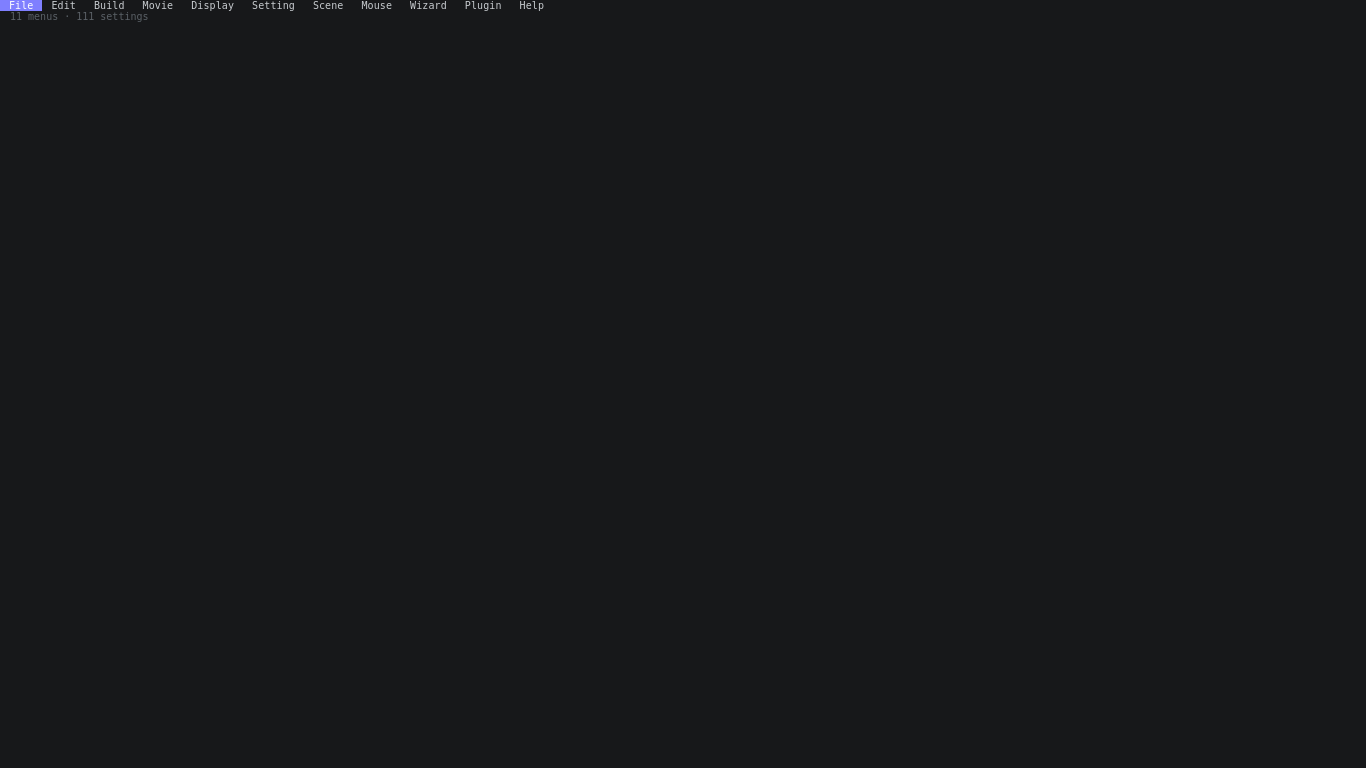
it: Setting > the three dialog entries (row 66) › Keyboard Shortcuts... opens the shortcut editor
Click the button with class "menubar__item" showing "Setting": point(273, 6) [243,0,304,11]
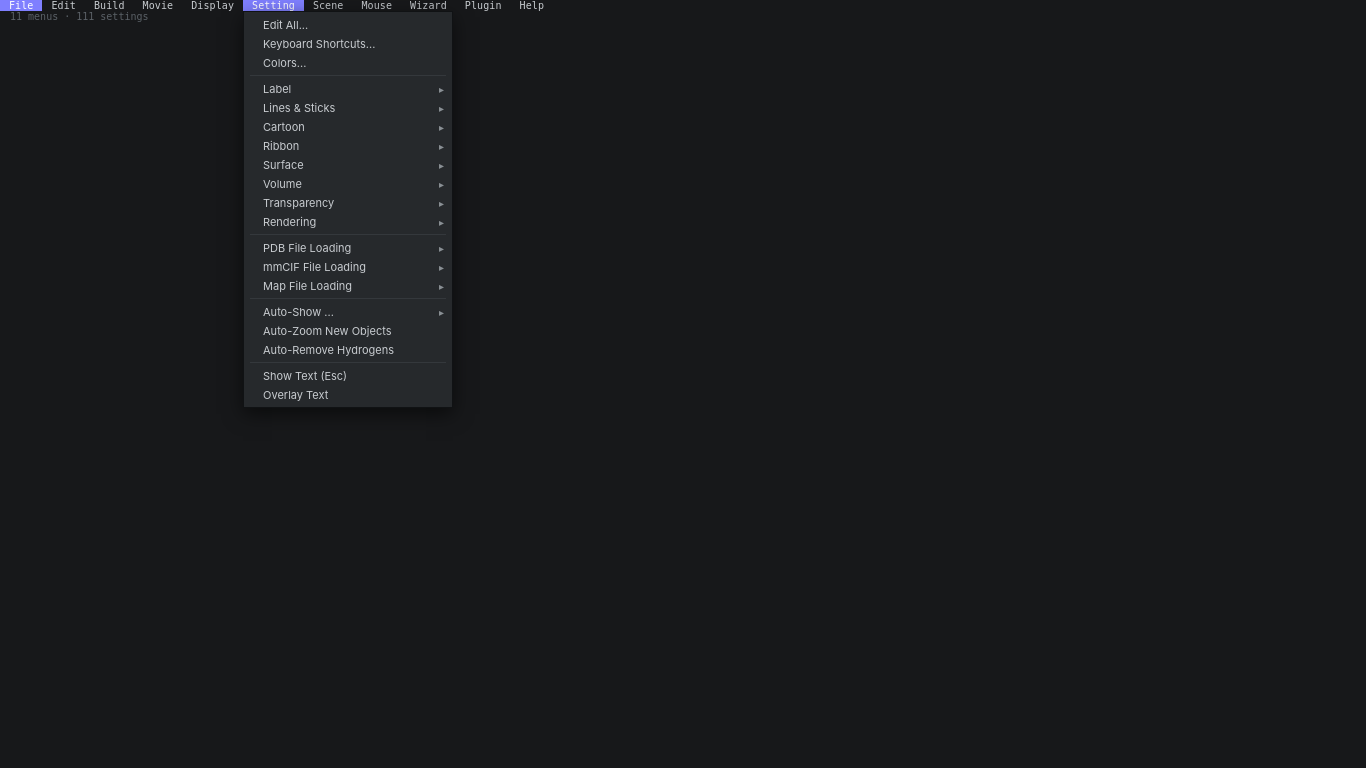
Click the menu item with class "menu__row" showing "Keyboard Shortcuts...": point(348, 44) [244,34,452,53]
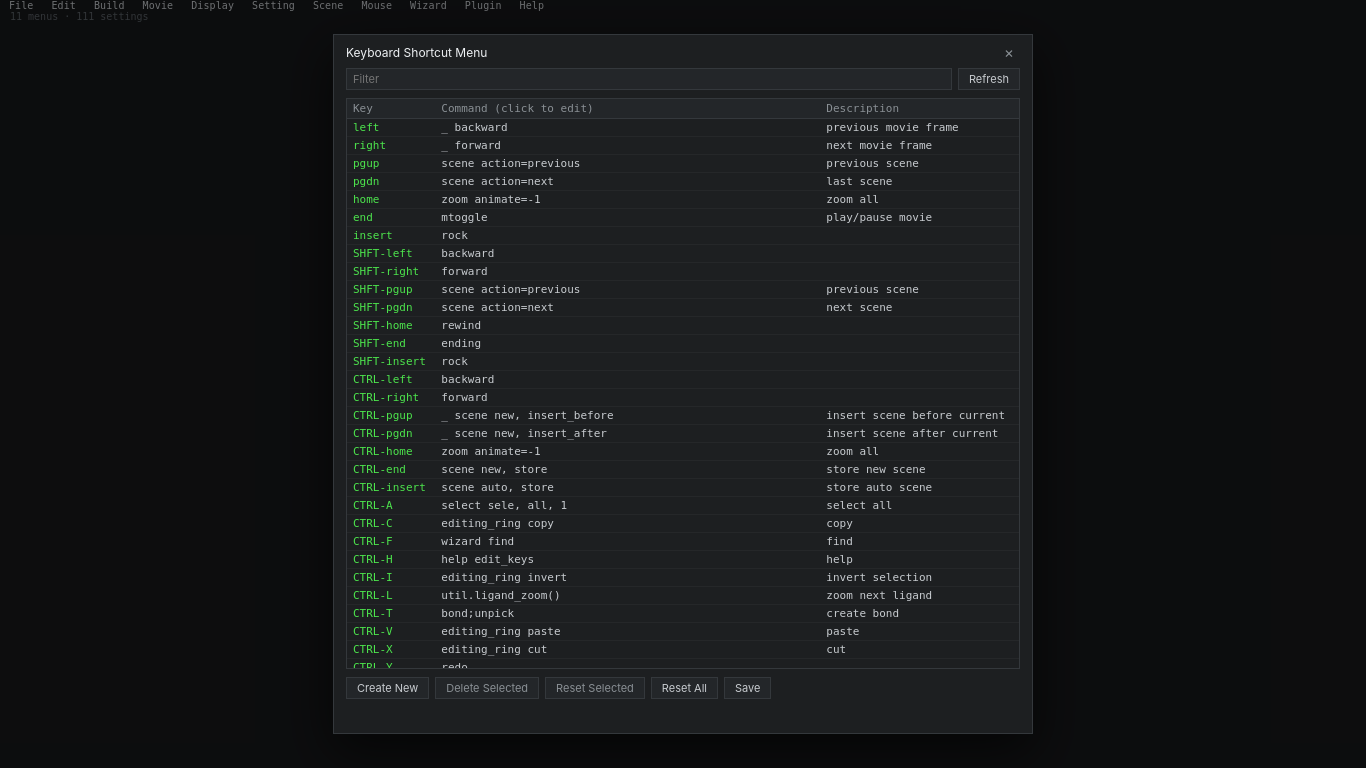
Check: the element with test id "shortcut-editor" shows "Keyboard Shortcut Menu", box [346,45,487,60]
